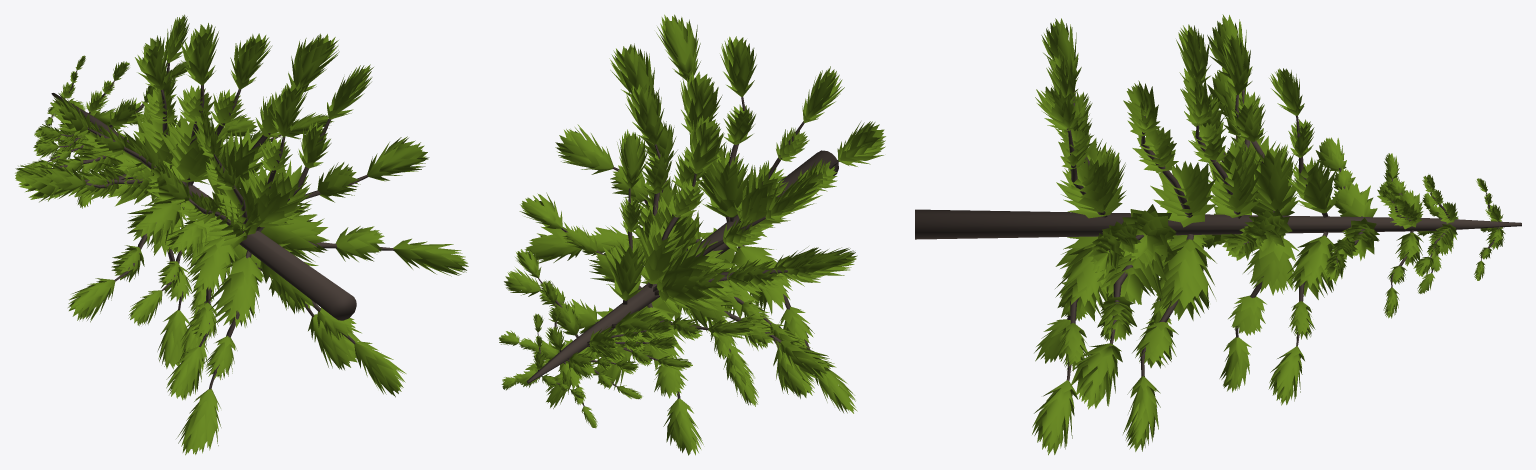
File: Arbol3Opt.fbx
3 views of the same model, side by side, from view 1: azimuth 30°, elevation 25°; view 2: azimuth 150°, elevation 25°; view 3: azimuth 270°, elevation 25° (orthographic). The views are drawn at different scales.
Parts seen in each view (by area): view 1: A1.015; view 2: A1.015; view 3: A1.015.
Part boxes in pixels (x1=…): A1.015: x1=15, y1=14, x2=468, y2=455; A1.015: x1=499, y1=14, x2=885, y2=455; A1.015: x1=915, y1=14, x2=1521, y2=455.
Size of the model in its own units: 22.97 by 15.68 by 17.52.
